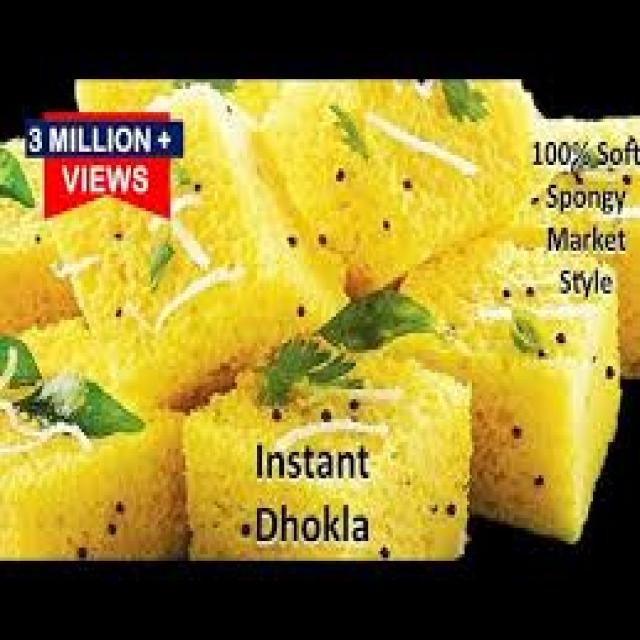DHOKLA: (54, 86, 332, 396), (402, 241, 623, 532), (182, 321, 460, 550), (271, 81, 540, 308), (1, 326, 186, 546)
